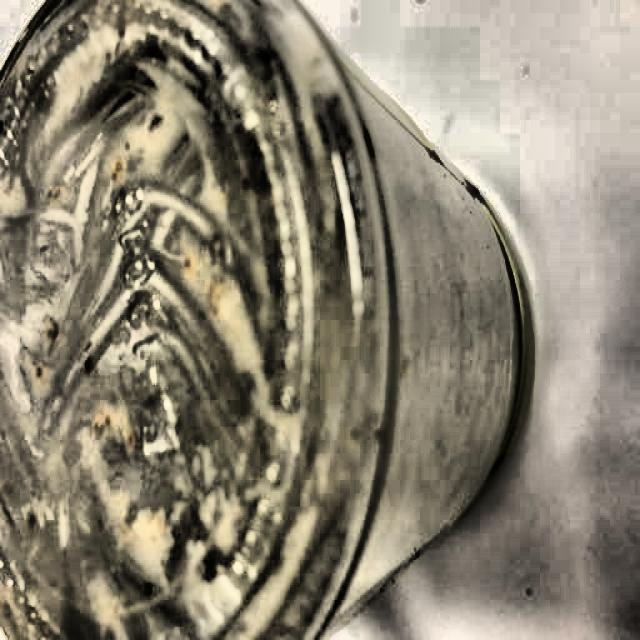glass: (0, 0, 524, 640)
